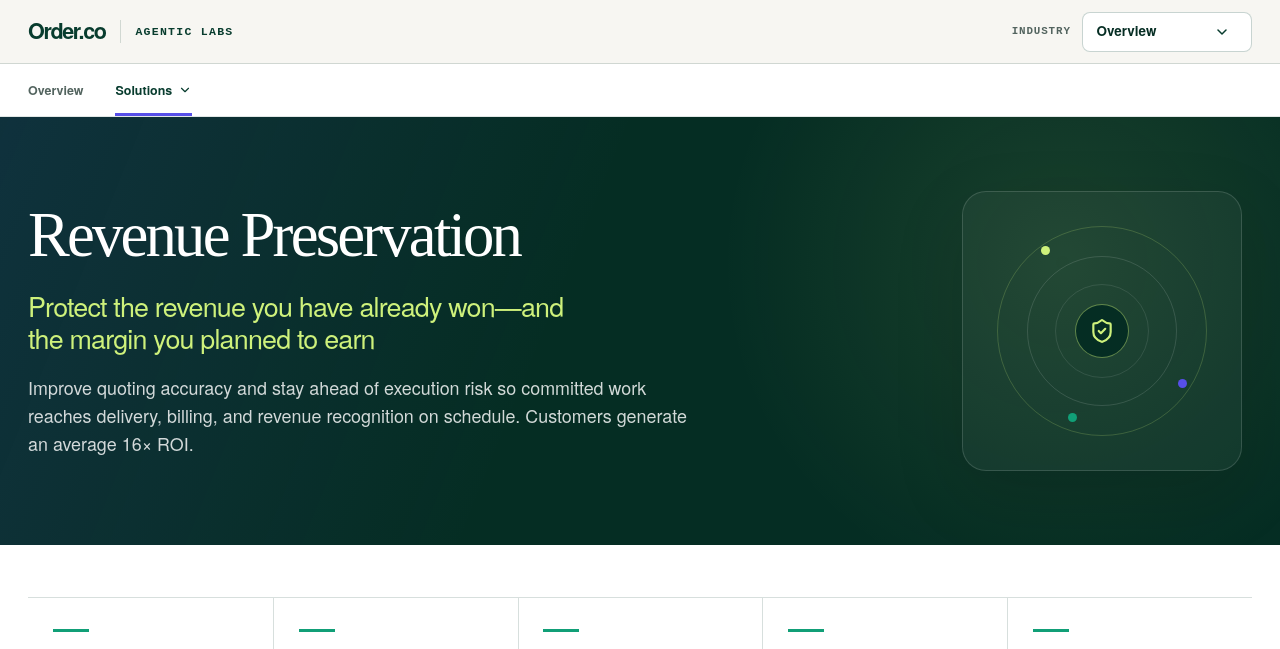
application route matrix › marks the active solution and closes after a destination is selected
Click the button with aria-label "open solutions menu, current section": (154, 90) [100,64,208,116]
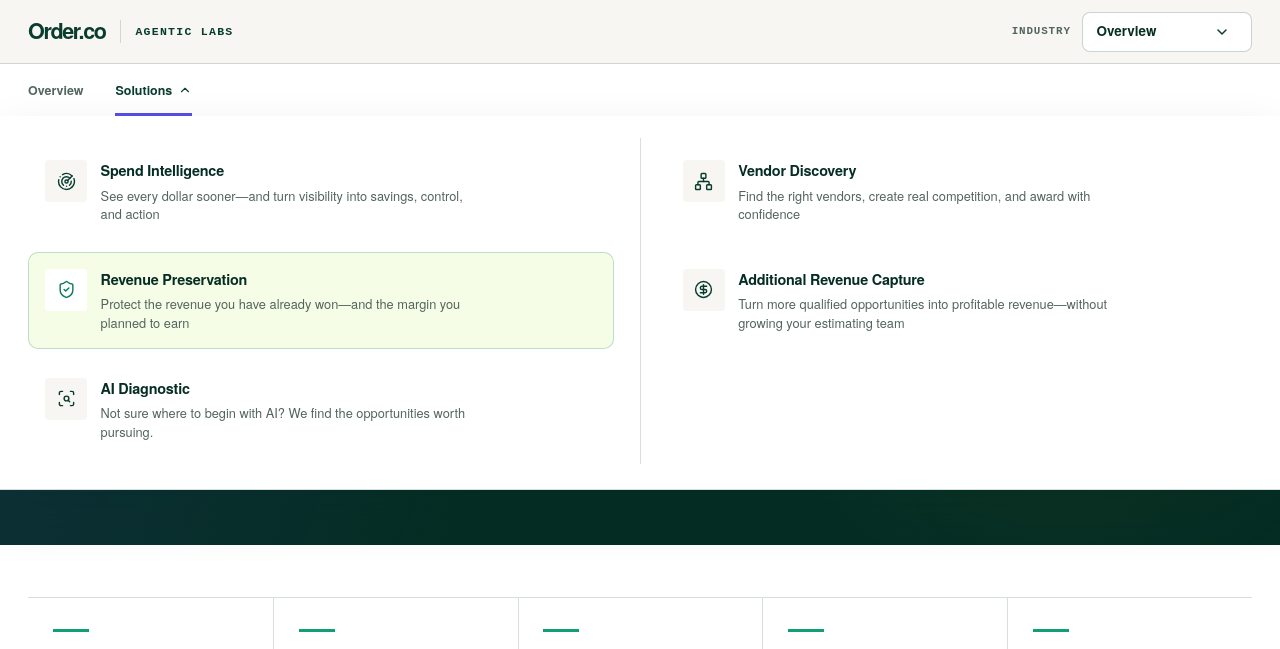
Click the link "AI Diagnostic": (255, 409) [45,378,465,441]
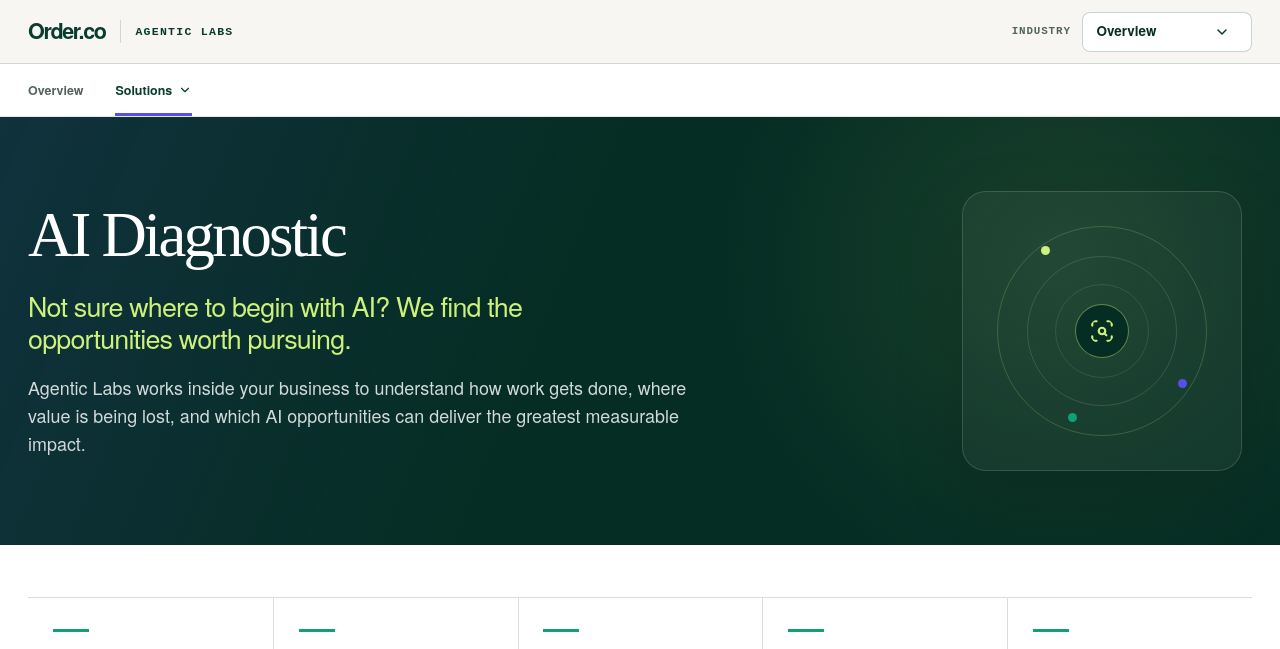
Now the list is gone
Now the button with aria-label "open solutions menu" is collapsed, box [100,64,208,116]
